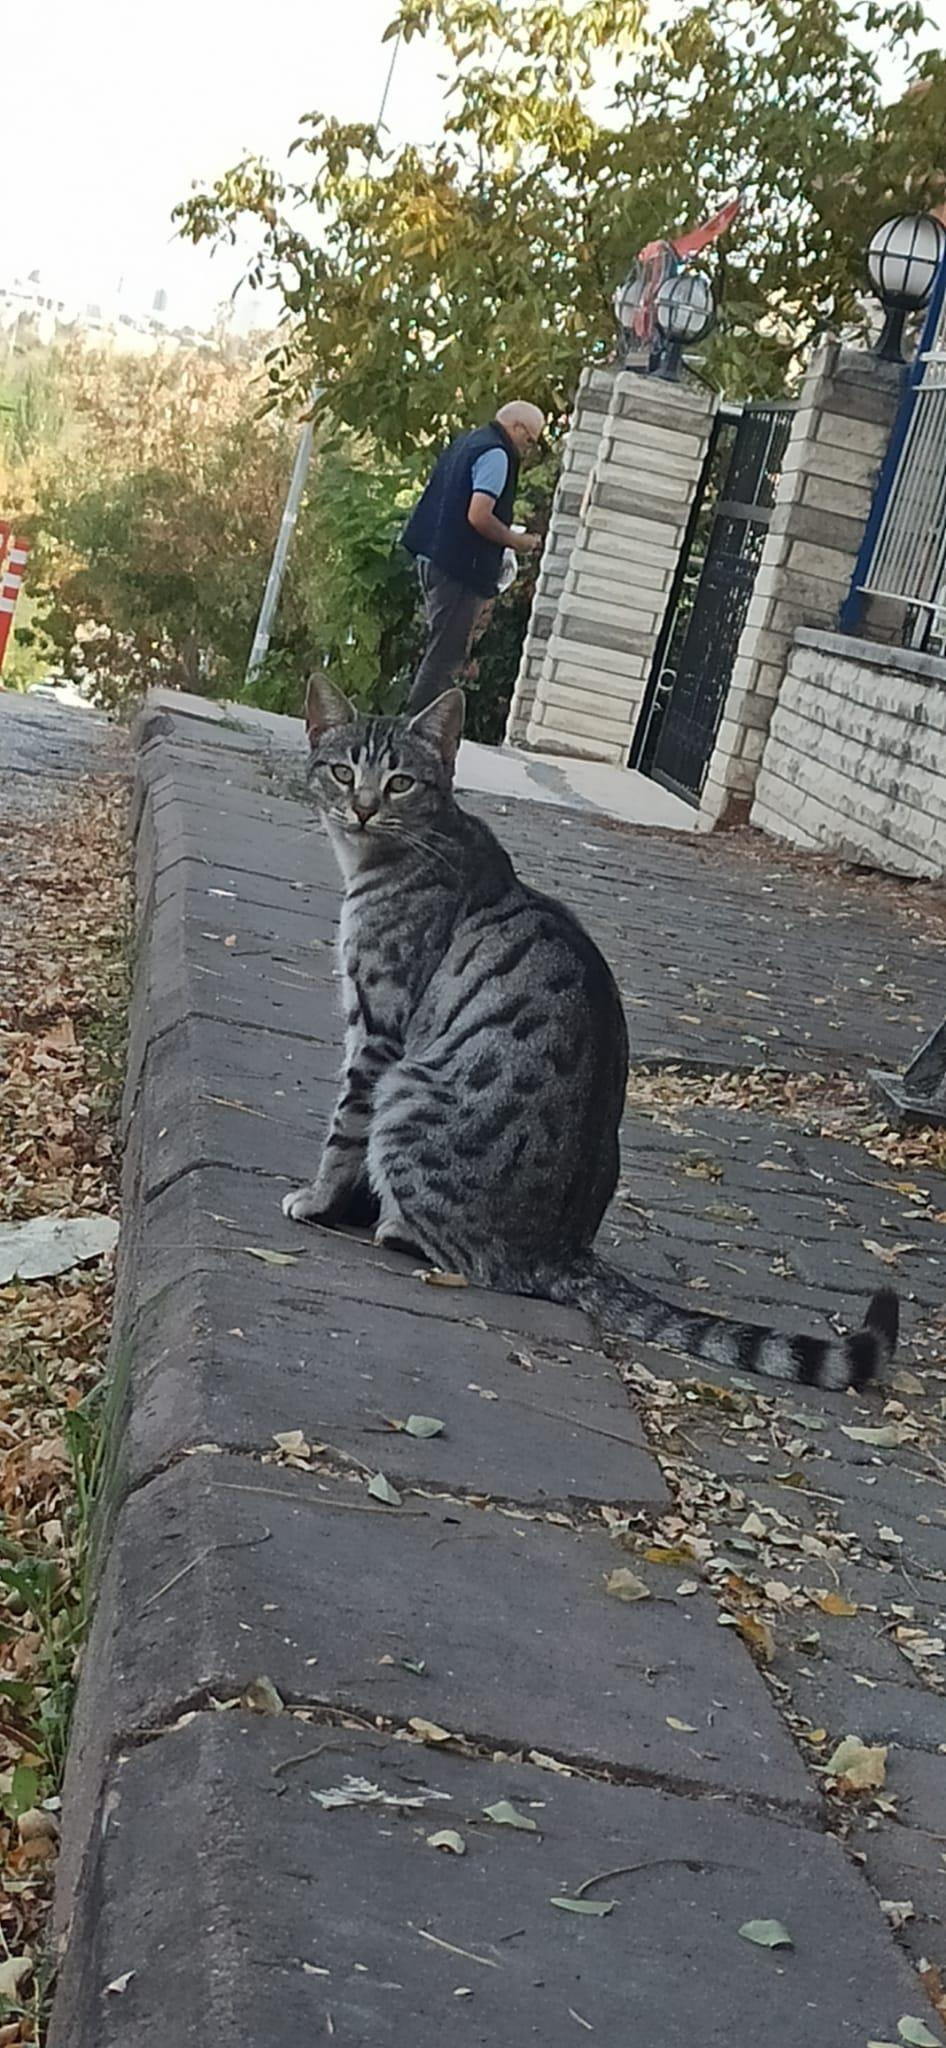kedo: (290, 670, 900, 1395)
